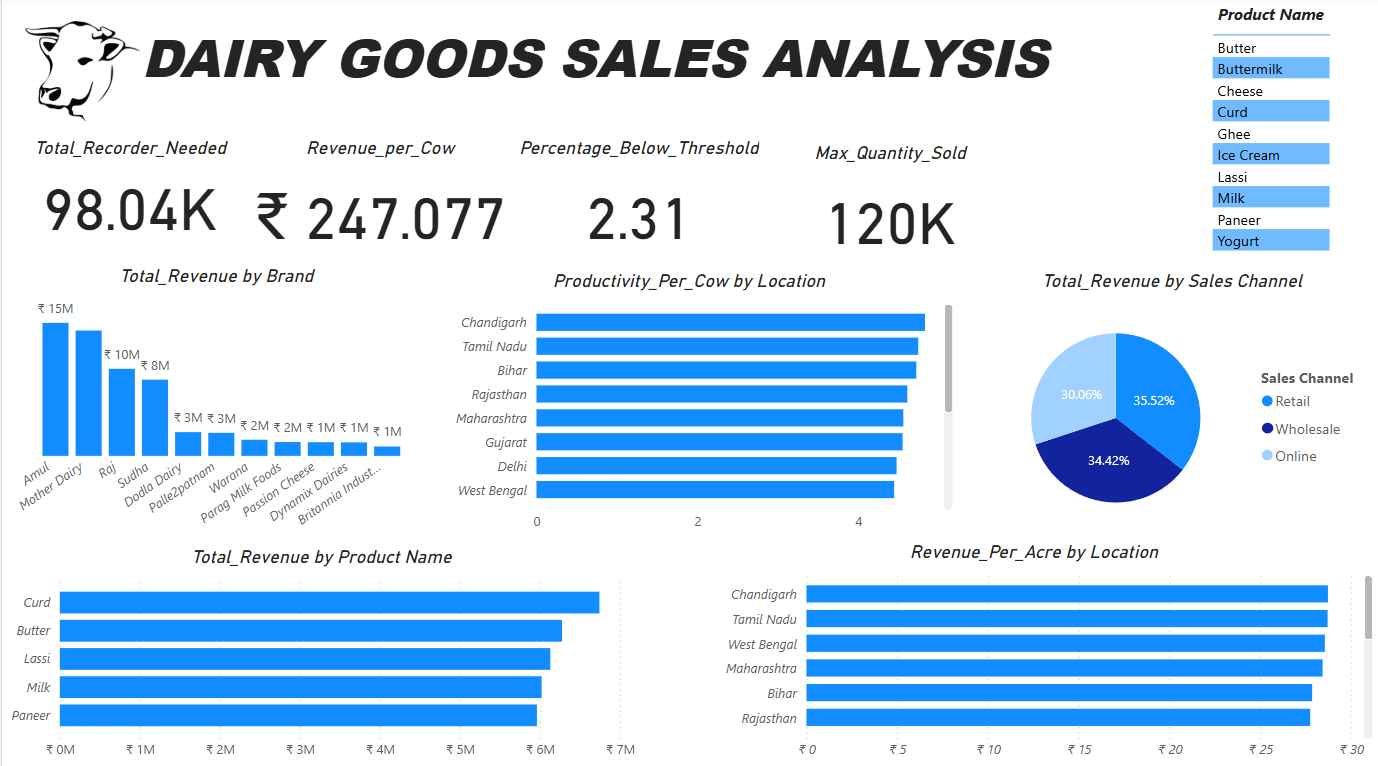

Layout of this report page (visuals, bound fields, positions):
{"tool":"powerbi","page":{"name":"Page 1","canvas":[1280,720],"ordinal":0},"visuals":[{"type":"clusteredColumnChart","fields":{"Category":["DATASET.Brand"],"Y":["DATASET.Total_Revenue"]},"box":[10.5,250,377.9,257],"z":0},{"type":"barChart","fields":{"Category":["DATASET.Product Name"],"Y":["DATASET.Total_Revenue"]},"box":[0,511.6,594.2,208.1],"z":1000},{"type":"pieChart","fields":{"Y":["DATASET.Total_Revenue"],"Category":["DATASET.Sales Channel"]},"box":[896.5,254.7,383.7,257],"z":2000},{"type":"card","title":"Total_Recorder_Needed","fields":{"Values":["DATASET.Total_Reorder_Needed"]},"box":[10.5,131.4,217.4,102.3],"z":3000},{"type":"barChart","fields":{"Y":["DATASET.Productivity_Per_Cow"],"Category":["DATASET.Location"]},"box":[388.4,254.7,501.2,252.3],"z":4000},{"type":"barChart","fields":{"Category":["DATASET.Location"],"Y":["DATASET.Revenue_Per_Acre"]},"box":[639.5,507,640.7,212.8],"z":5000},{"type":"card","title":"Revenue_per_Cow","fields":{"Values":["DATASET.Revenue_Per_Cow"]},"box":[227.9,131.4,247.7,118.6],"z":6000},{"type":"card","title":"Percentage_Below_Threshold","fields":{"Values":["DATASET.Percent_Below_Threshold"]},"box":[475.6,131.4,233.7,118.6],"z":7000},{"type":"card","title":"Max_Quantity_Sold","fields":{"Values":["DATASET.Max_Quantity_Sold"]},"box":[709.3,136,233.7,118.6],"z":8000},{"type":"tableEx","fields":{"Values":["DATASET.Product Name"]},"box":[1119.8,0,140.7,250],"z":9000},{"type":"textbox","box":[119.8,0,862.8,117.4],"z":10000},{"type":"image","box":[3.5,18.6,143,102.3],"z":11000}]}

Visuals, with their boxes in screenshot pixels (x1, y1, x2, y2), scaled from the page's 1280x720 canvas onto the 1378x766 screenshot:
clusteredColumnChart - DATASET.Brand x DATASET.Total_Revenue: (11, 266, 418, 539)
barChart - DATASET.Product Name x DATASET.Total_Revenue: (0, 544, 640, 765)
pieChart - DATASET.Total_Revenue x DATASET.Sales Channel: (965, 271, 1377, 544)
"Total_Recorder_Needed" card: (11, 140, 245, 249)
barChart - DATASET.Productivity_Per_Cow x DATASET.Location: (418, 271, 958, 539)
barChart - DATASET.Location x DATASET.Revenue_Per_Acre: (688, 539, 1377, 765)
"Revenue_per_Cow" card: (245, 140, 512, 266)
"Percentage_Below_Threshold" card: (512, 140, 764, 266)
"Max_Quantity_Sold" card: (764, 145, 1015, 271)
tableEx - DATASET.Product Name: (1206, 0, 1357, 266)
textbox: (129, 0, 1058, 125)
image: (4, 20, 158, 129)
